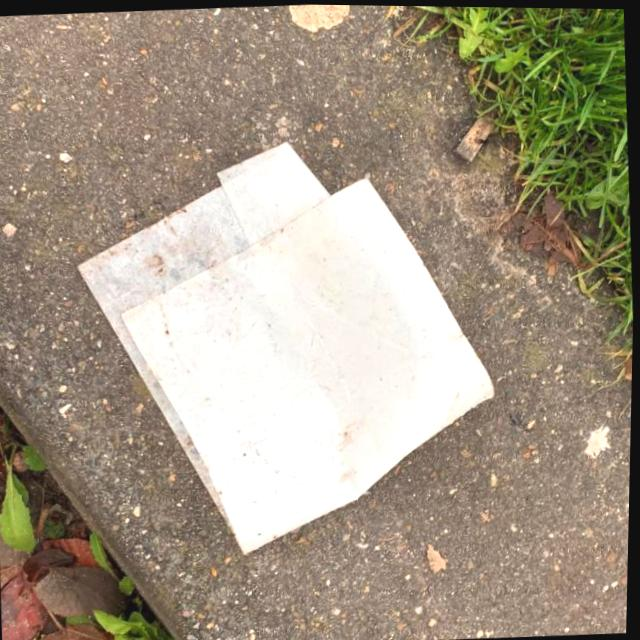Paper: (65, 125, 510, 569)
